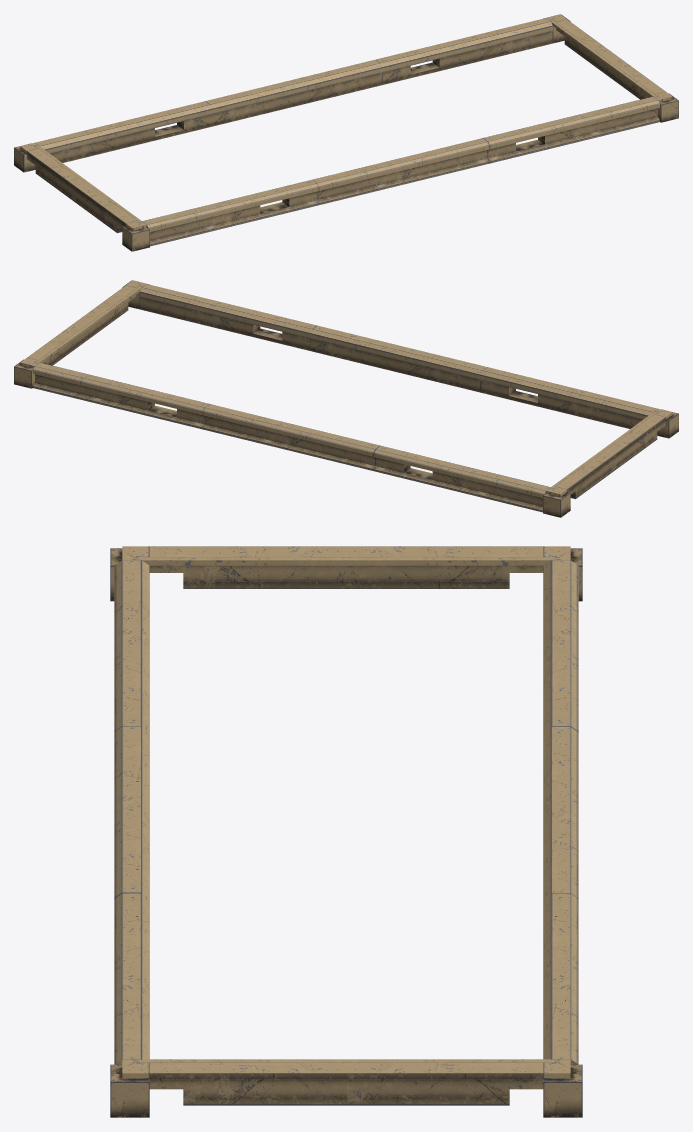
File: CnFrameBtmA2.fbx
The picture shows the model from 3 angles, top to bottom: view 1: azimuth 30°, elevation 25°; view 2: azimuth 150°, elevation 25°; view 3: azimuth 270°, elevation 25°; orthographic projection. The views are drawn at different scales.
Visible parts, largest first — view 1: CnFrameBtmA2; view 2: CnFrameBtmA2; view 3: CnFrameBtmA2.
Boxes of the visible parts, x1,y1,x2,y2 form: CnFrameBtmA2: [14, 14, 678, 251]; CnFrameBtmA2: [14, 280, 678, 517]; CnFrameBtmA2: [110, 546, 582, 1117].
Bounding box in the file's own units: 642 × 23 × 240.
